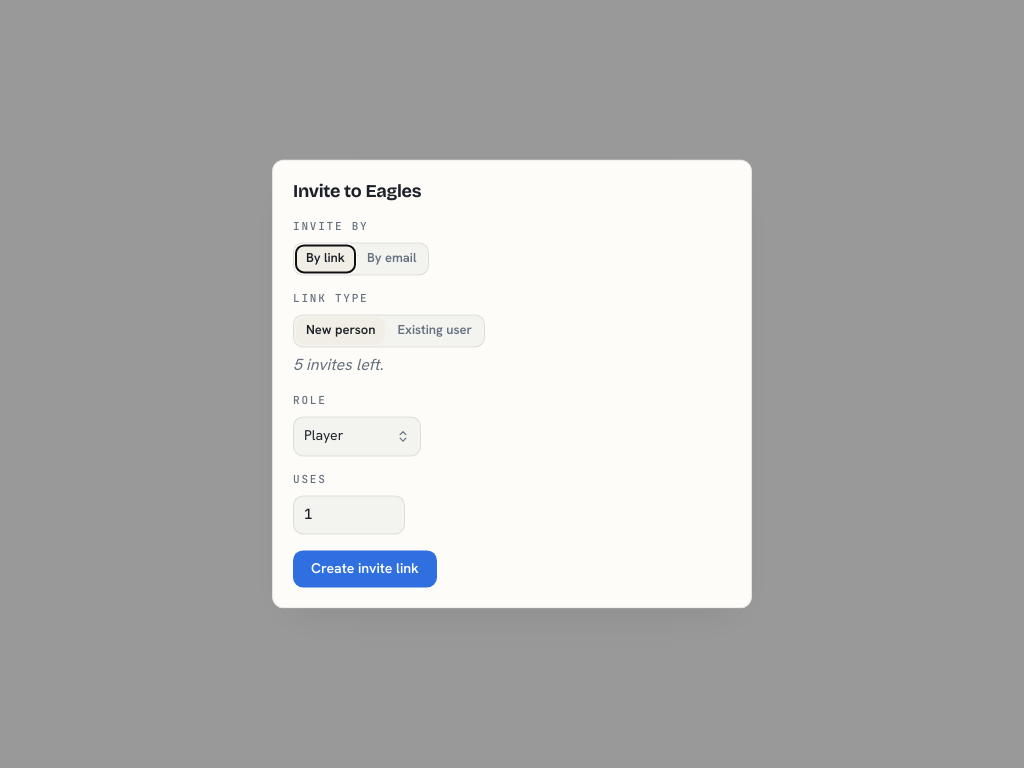
Test: InviteDialog, By link › blocks a link asking for more uses than the quota covers
The image size is (1024, 768).
Replace the text in the number field named "How many people may use the link" with "6" at (349,515), box [293, 495, 405, 534]
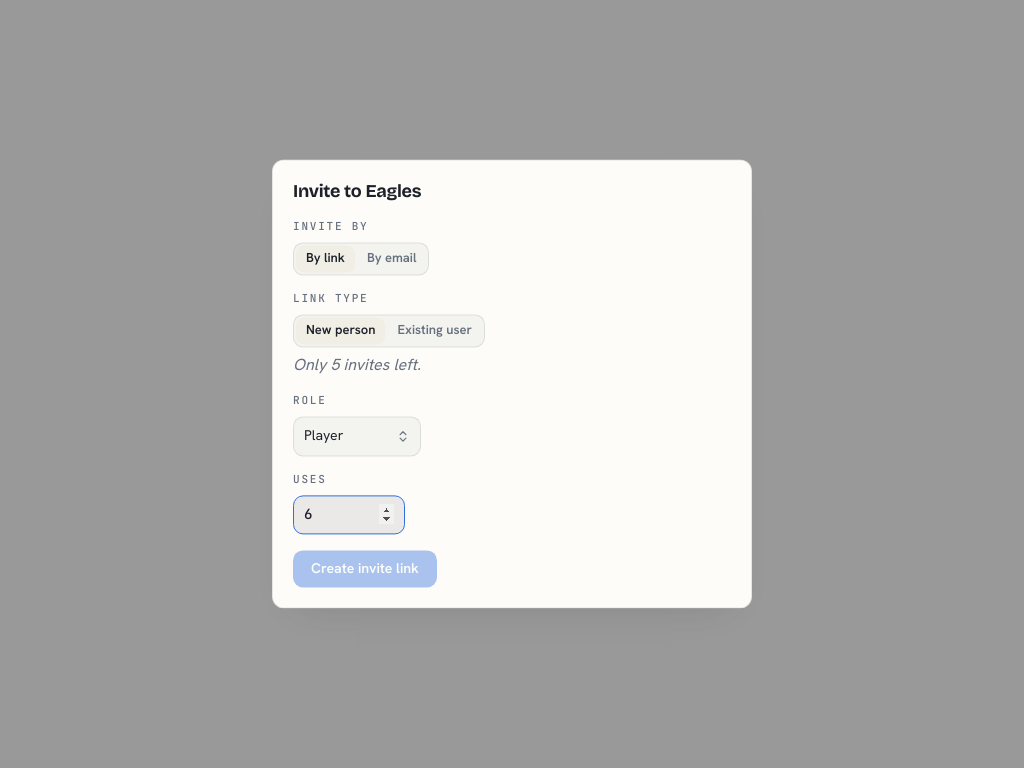
Expected: the text "Only 5 invites left." is shown, [293, 354, 421, 375]
Expected: the button "Create invite link" is disabled, [293, 550, 437, 588]
